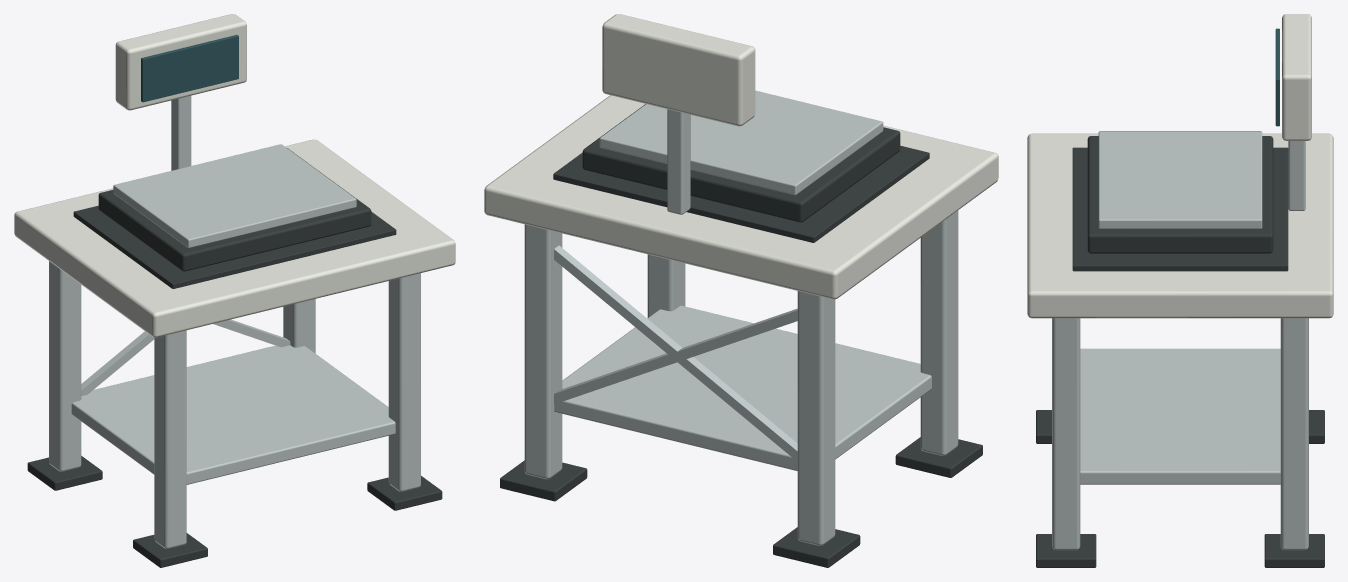
Rendered from generation-ship-hydroponics-generation-ship-hydroponic-d2eba934__31508.glb.
The picture shows the model from 3 angles, left to right: view 1: azimuth 30°, elevation 25°; view 2: azimuth 150°, elevation 25°; view 3: azimuth 270°, elevation 25°; orthographic projection. The views are drawn at different scales.
Parts seen in each view (by area): view 1: generation-ship-hydroponics-food-weighing-station; view 2: generation-ship-hydroponics-food-weighing-station; view 3: generation-ship-hydroponics-food-weighing-station.
Part boxes in pixels (x1,y1,x2,y2): generation-ship-hydroponics-food-weighing-station: (14,14,455,567); generation-ship-hydroponics-food-weighing-station: (484,14,998,567); generation-ship-hydroponics-food-weighing-station: (1027,14,1333,567).
Bounding box in the file's own units: 0.88 × 1.15 × 0.7101.
